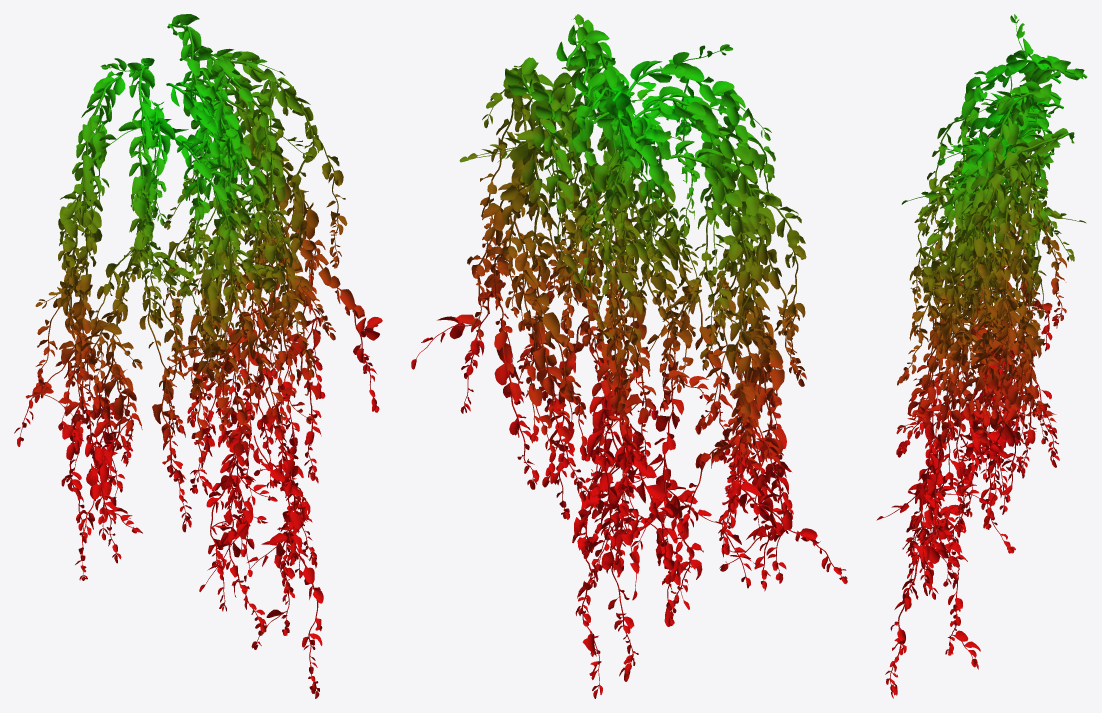
Rendered from Var1_LOD0.fbx.
The picture shows the model from 3 angles, left to right: view 1: azimuth 30°, elevation 25°; view 2: azimuth 150°, elevation 25°; view 3: azimuth 270°, elevation 25°; orthographic projection. The views are drawn at different scales.
Parts seen in each view (by area): view 1: _28v0_Var1_LOD0; view 2: _28v0_Var1_LOD0; view 3: _28v0_Var1_LOD0.
Boxes of the visible parts, x1,y1,x2,y2 form: _28v0_Var1_LOD0: (14,14,382,698); _28v0_Var1_LOD0: (411,14,847,698); _28v0_Var1_LOD0: (876,14,1087,698).
Size of the model in its own units: 144 by 255 by 78.77.
